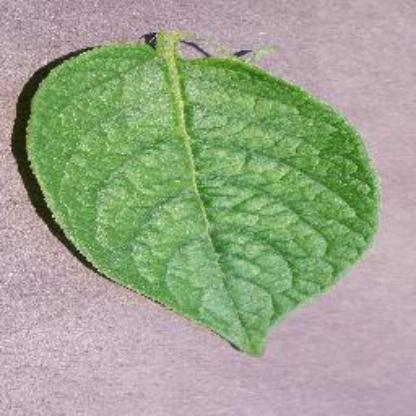Healthy-plant: (20, 18, 384, 360)
